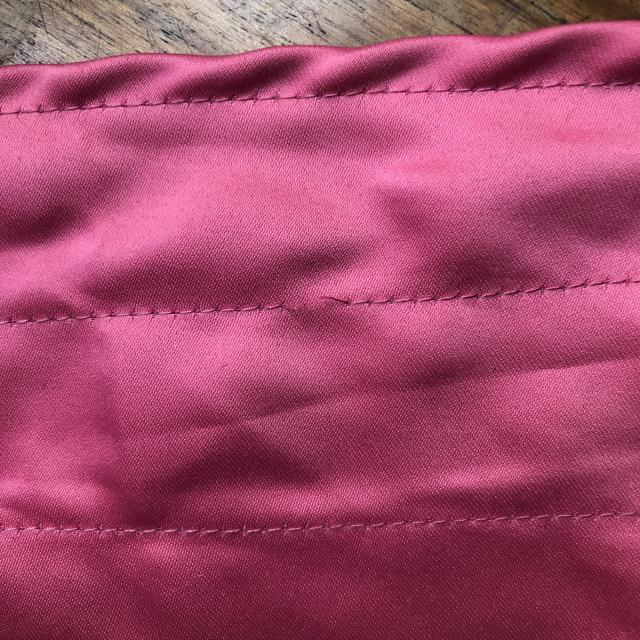broken: (260, 278, 372, 327)
good: (212, 516, 395, 541)
